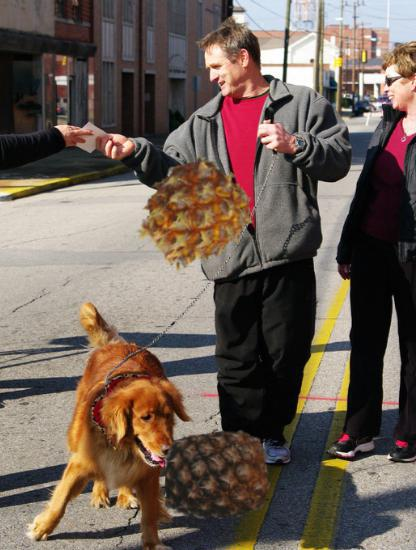Pineapple: (138, 158, 252, 272), (165, 422, 271, 528)
